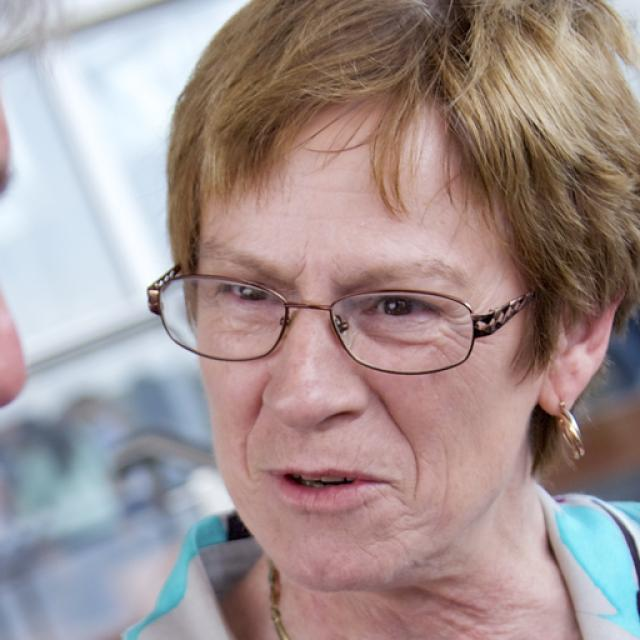disgust: (195, 88, 540, 590)
